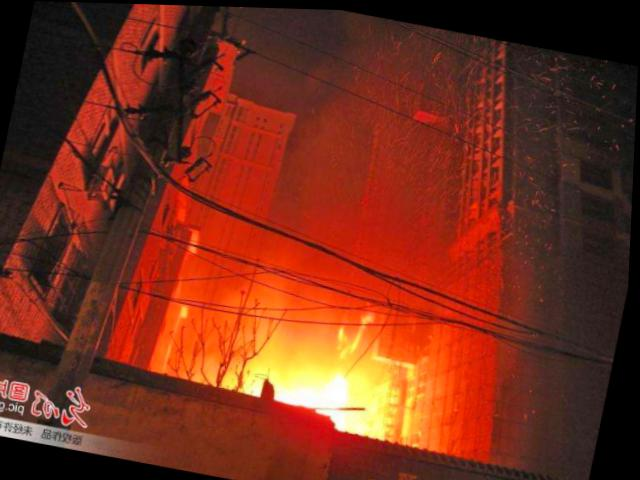fire: (256, 356, 393, 434)
